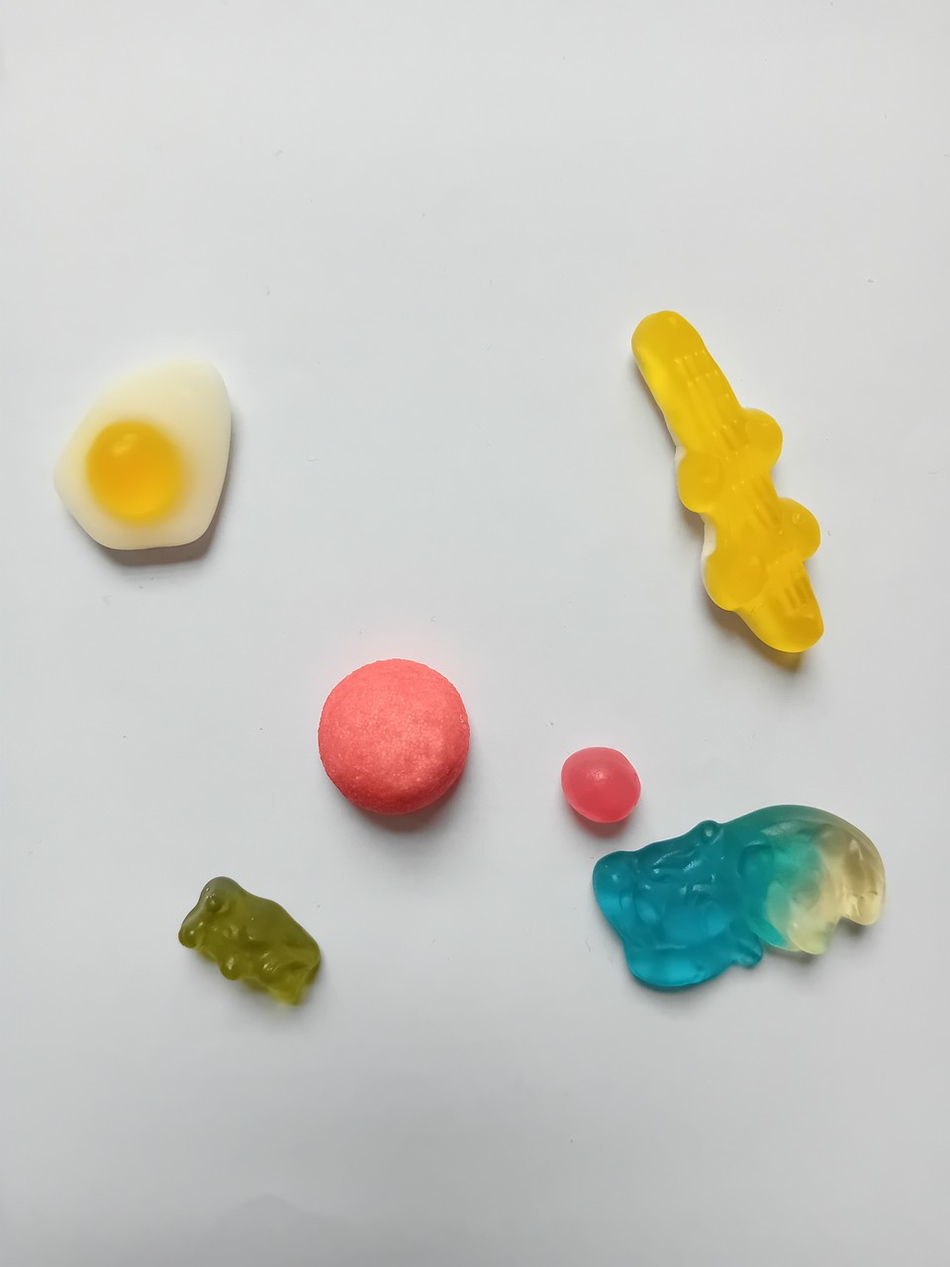crocodile_jaune: (617, 295, 835, 668)
dragibus_rouge: (551, 743, 644, 830)
oeuf_oeuf: (31, 351, 246, 558)
ourson_vert: (169, 867, 336, 1015)
schtroumpf_bleu-blanc: (590, 799, 891, 997)
tagada_fraise: (311, 651, 477, 828)
